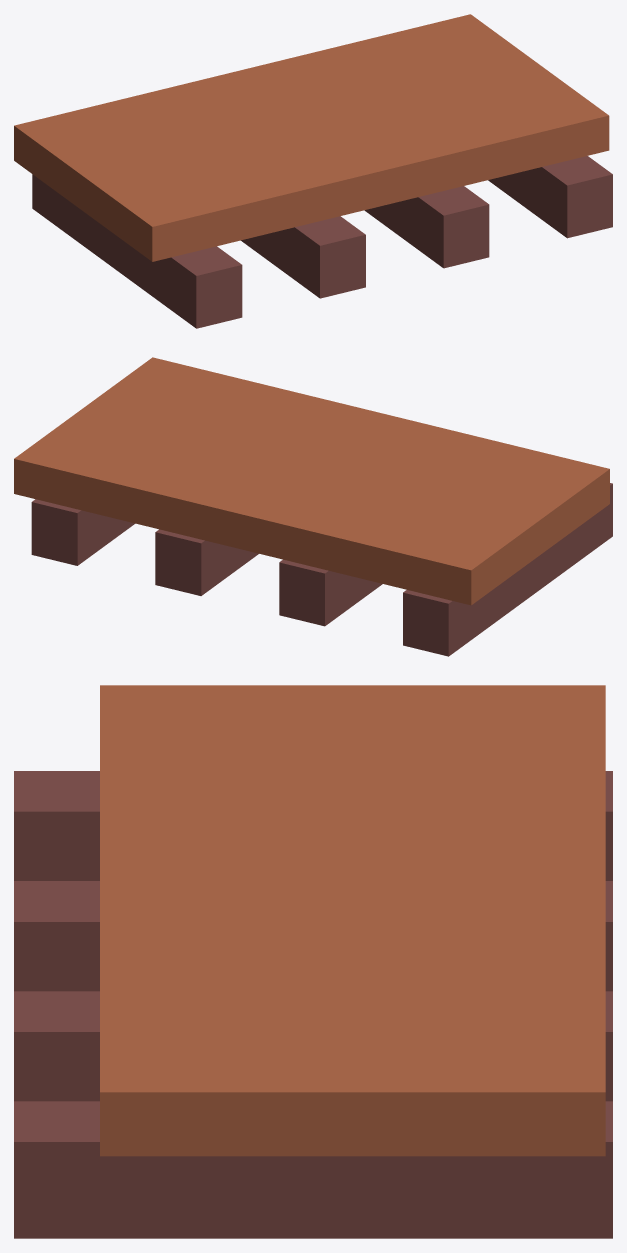
File: estante-vaziav2.fbx
3 renders of one model, top to bottom at view 1: azimuth 30°, elevation 25°; view 2: azimuth 150°, elevation 25°; view 3: azimuth 270°, elevation 25°, orthographic. The views are drawn at different scales.
Visible parts, largest first — view 1: Cube.011; view 2: Cube.011; view 3: Cube.011.
Boxes of the visible parts, x1,y1,x2,y2 form: Cube.011: (14,14,612,328); Cube.011: (14,357,612,656); Cube.011: (14,685,612,1238).
Bounding box in the file's own units: 1.79 × 0.3362 × 1.12.
